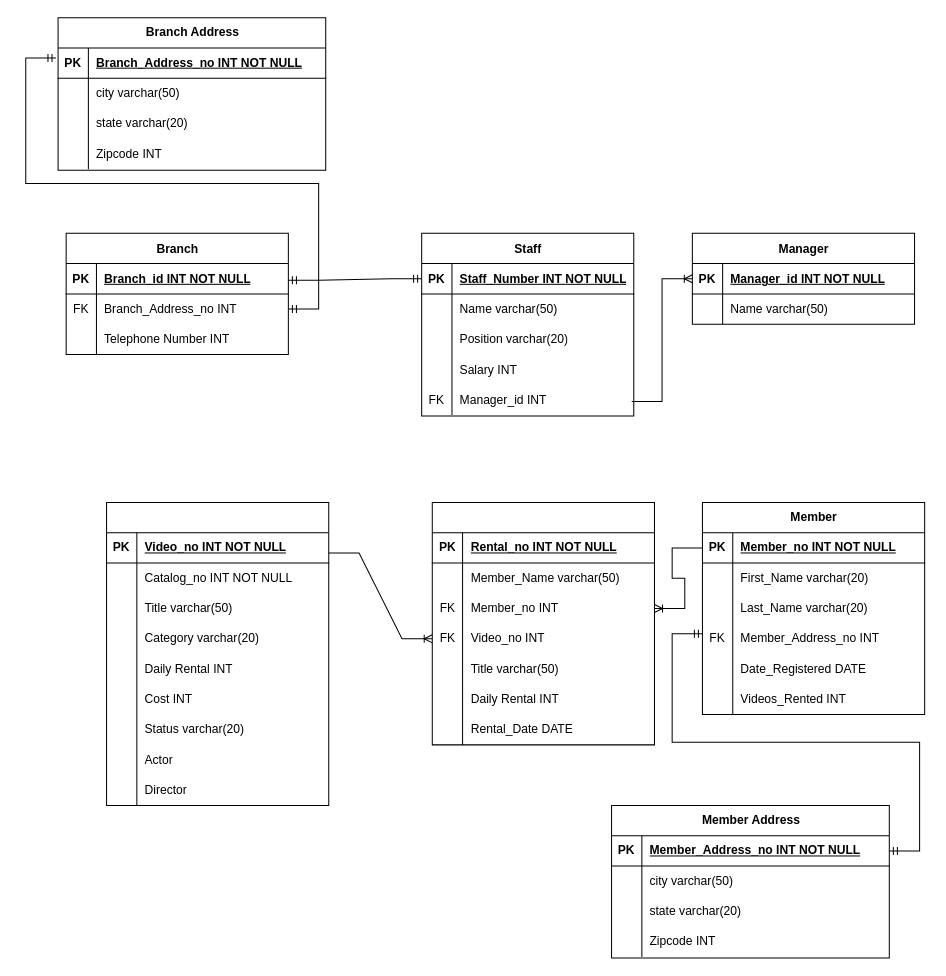
This 946x976 diagram has some shape labels left out. Here are the shapes that lost their labels. From the top down, the box of each, then its label:
(431, 501, 654, 745): Rented Video
(106, 501, 329, 805): Videos
